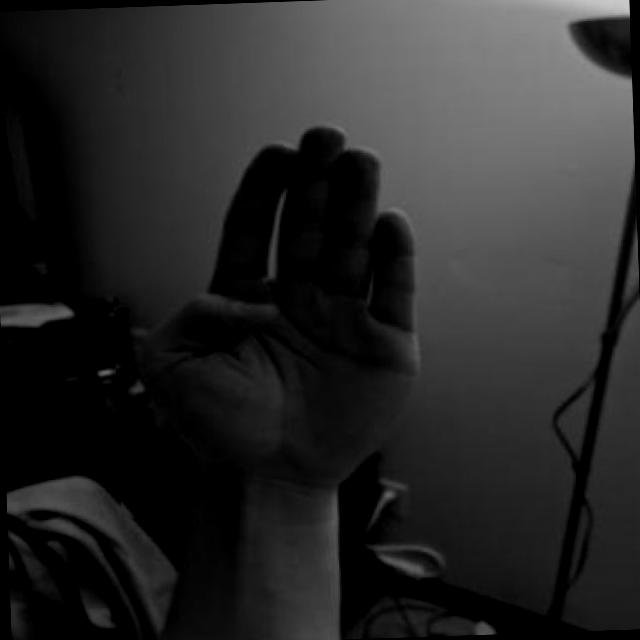B: (107, 101, 464, 523)
